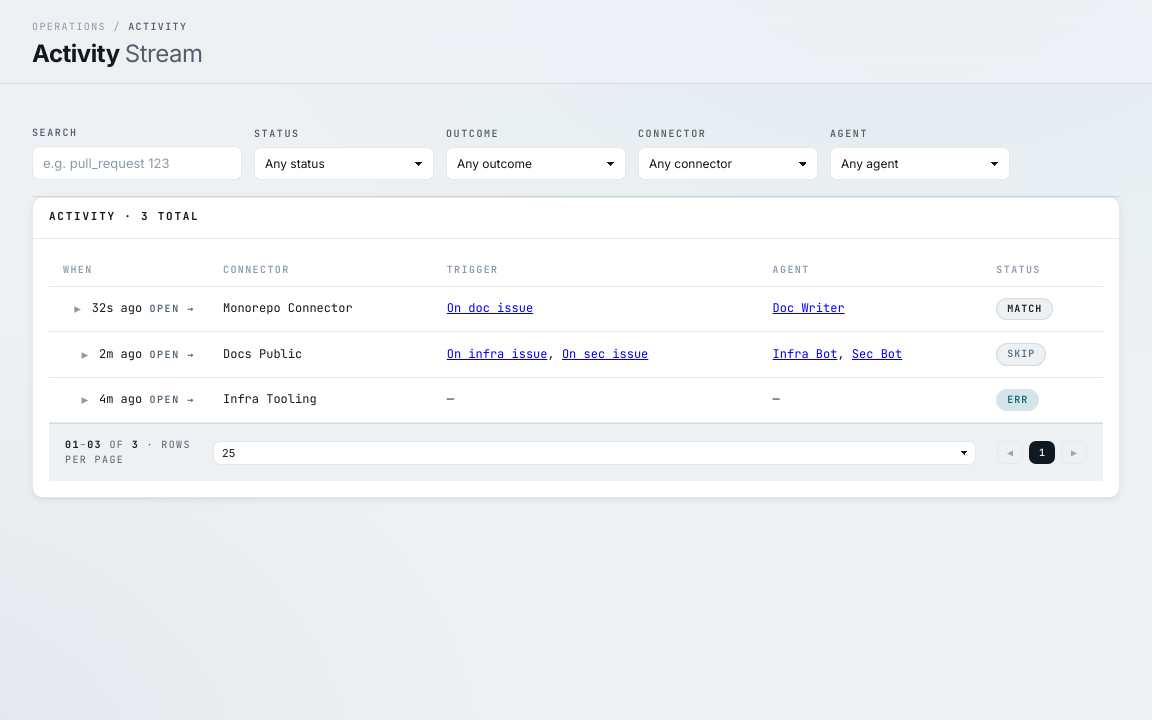
Scenario: Activity › filters by connector id while showing names in UI
Expected: the link with aria-label "Open event e1" is shown, [49,286,1103,332]
Select "Monorepo Connector" in the dropdown named "filter by connector" at (728, 164), box [638,147,818,180]
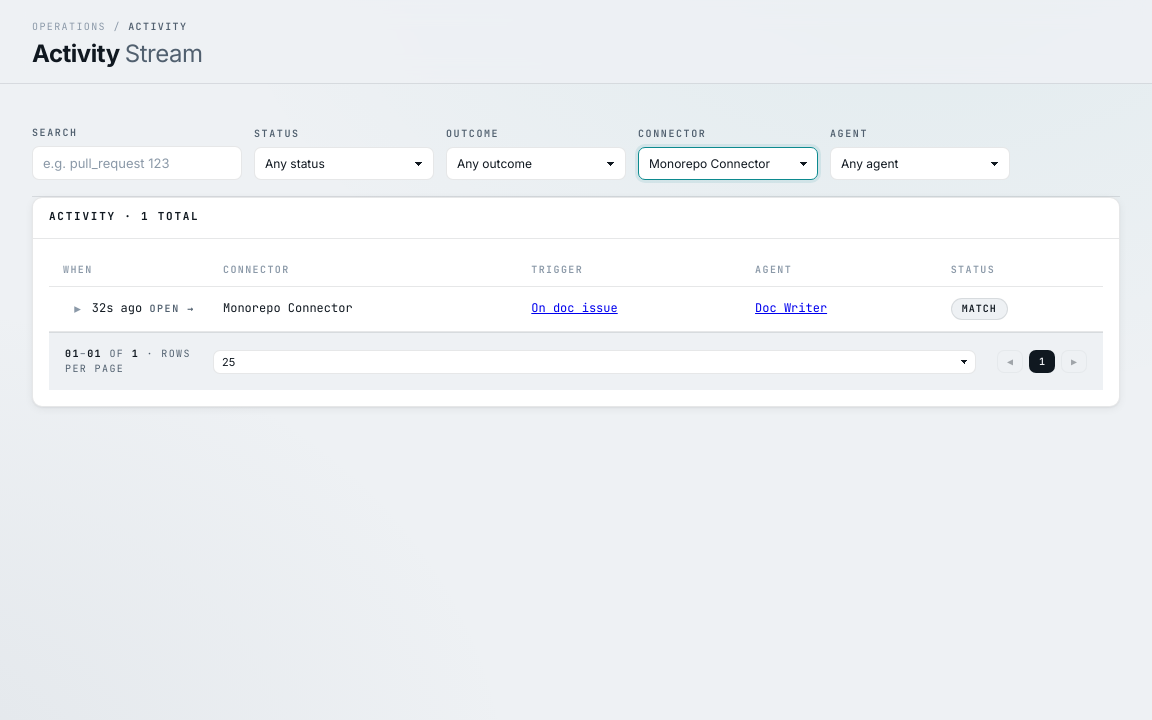
Expected: the table shows "Monorepo Connector", [223,300,353,316]
Expected: the link "Infra Tooling" no longer shows "Infra Tooling"
